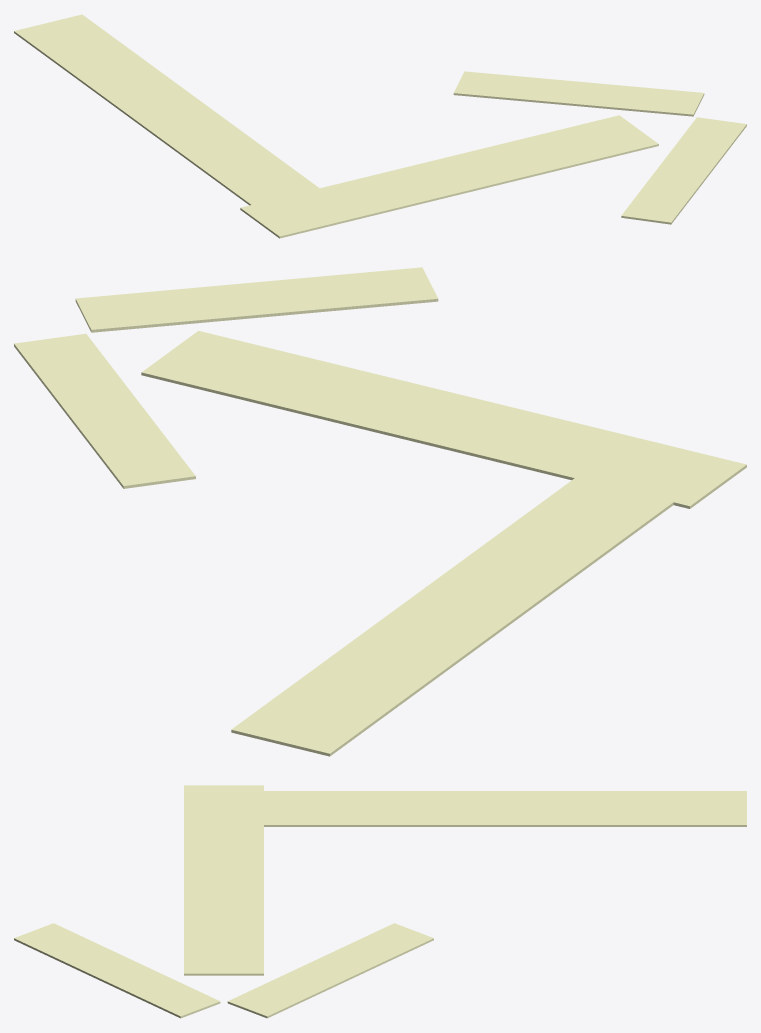
File: marking_arrow_turn_right_white.glb
The picture shows the model from 3 angles, top to bottom: view 1: azimuth 30°, elevation 25°; view 2: azimuth 150°, elevation 25°; view 3: azimuth 270°, elevation 25°; orthographic projection. The views are drawn at different scales.
Visible parts, largest first — view 1: shaft, arm, head_lower, head_upper; view 2: shaft, arm, head_upper, head_lower; view 3: shaft, arm, head_upper, head_lower.
Part boxes in pixels (<box>): shaft: <box>14,14,353,231</box>; arm: <box>240,115,658,238</box>; head_lower: <box>453,71,704,116</box>; head_upper: <box>621,117,746,224</box>; shaft: <box>231,440,725,756</box>; arm: <box>141,330,746,508</box>; head_upper: <box>75,267,438,332</box>; head_lower: <box>14,333,195,488</box>; shaft: <box>190,791,746,826</box>; arm: <box>184,785,263,975</box>; head_upper: <box>14,923,220,1018</box>; head_lower: <box>227,923,433,1018</box>.
Size of the model in its own units: 1.23 by 0.005 by 1.65.
